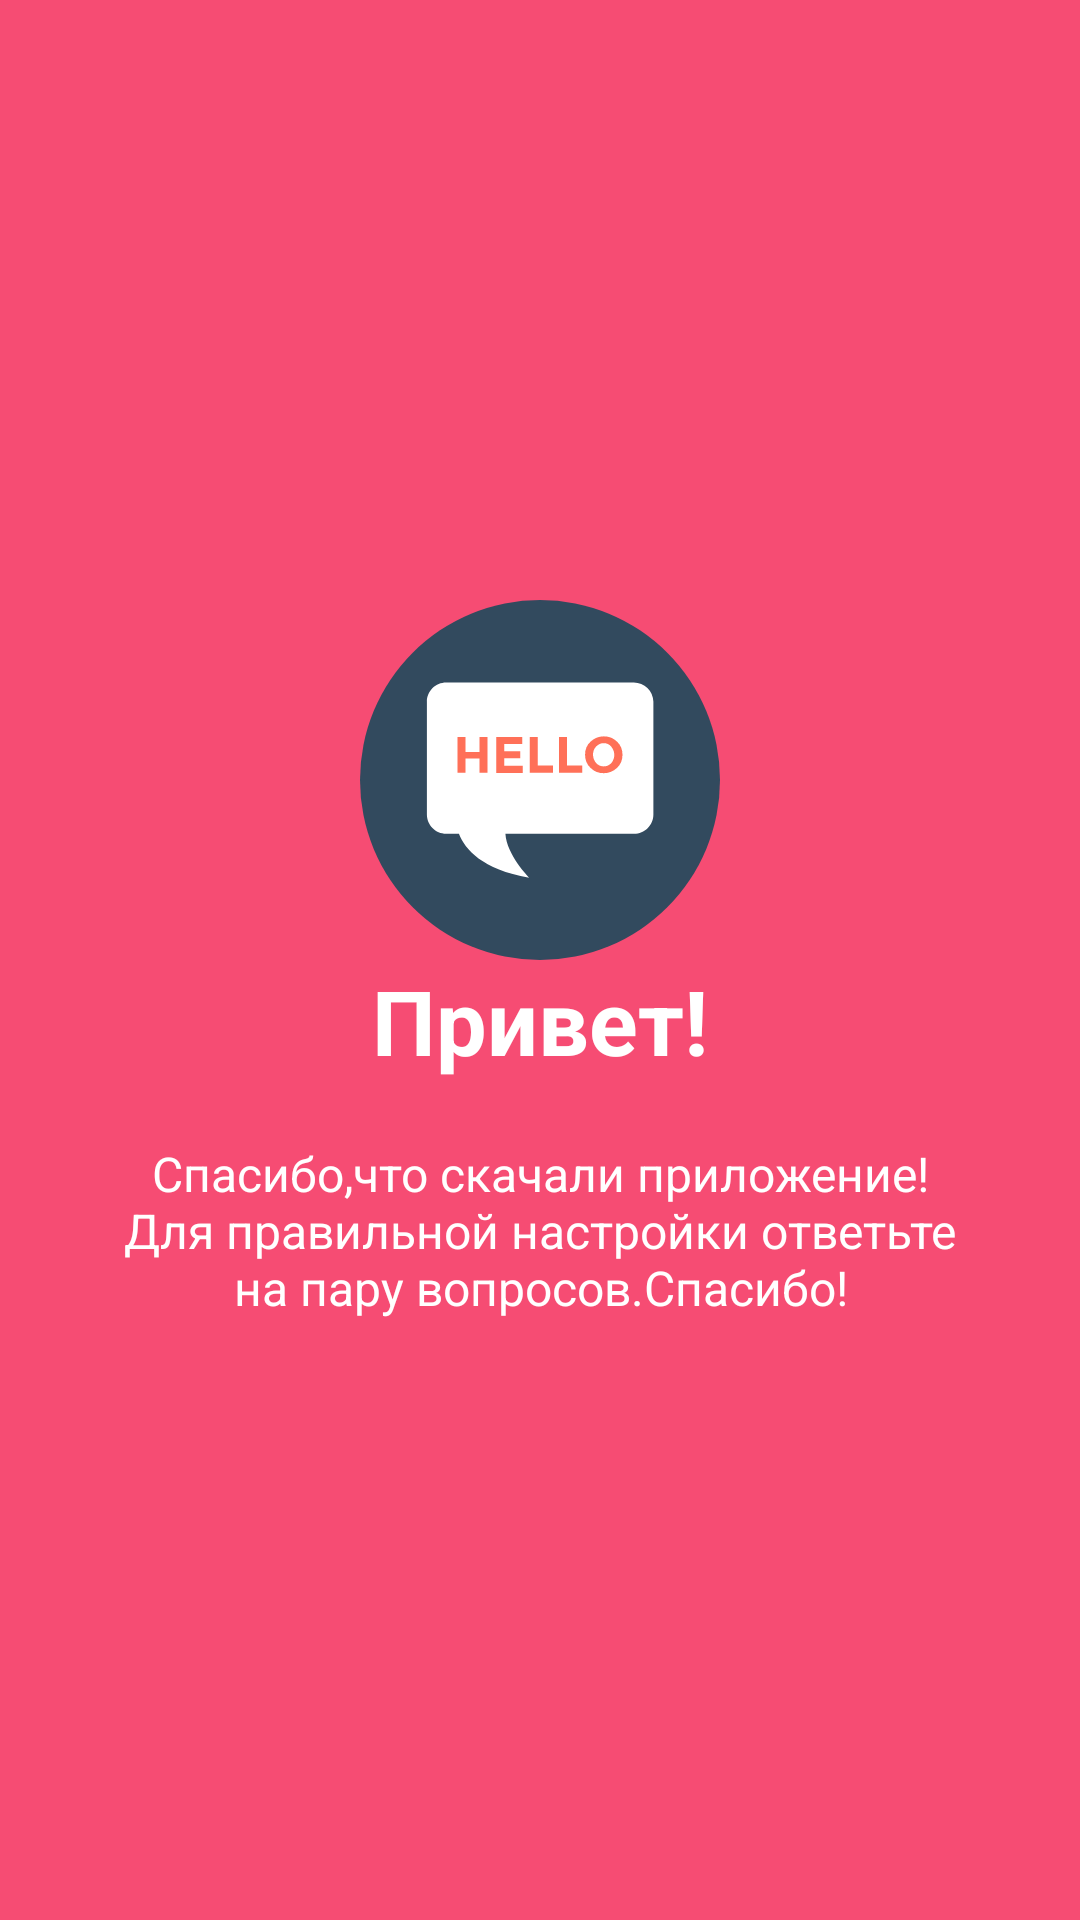

Point at icon controls on the screen. Image size 1080x1920, points as (x,y).
chat: (540,780)
